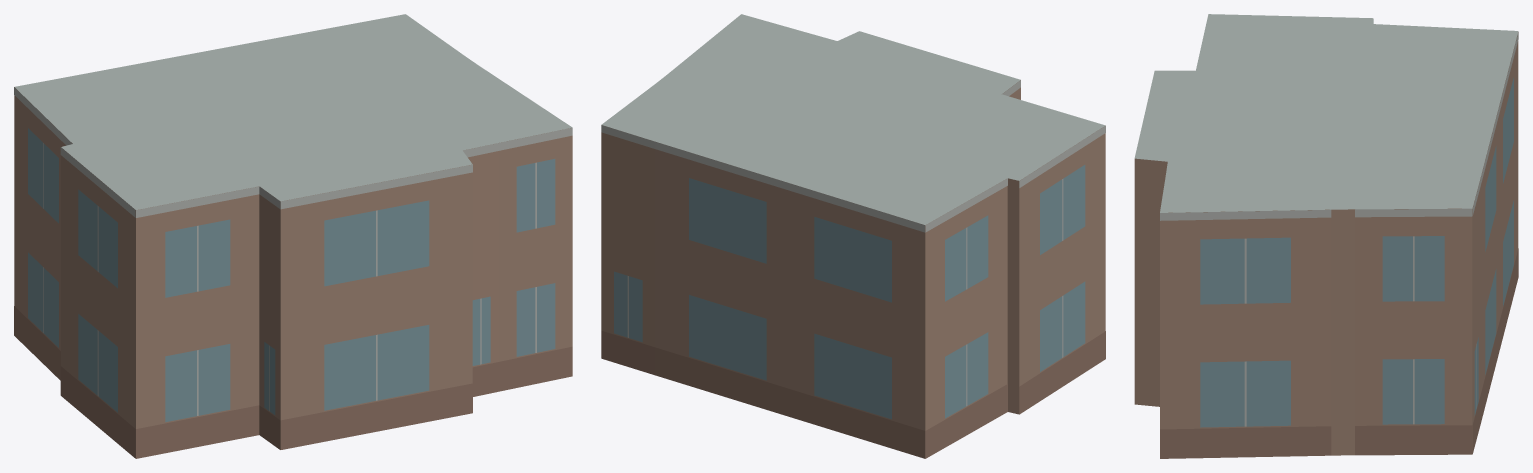
File: survey-upis-32980342.glb
3 renders of one model, left to right at view 1: azimuth 30°, elevation 25°; view 2: azimuth 150°, elevation 25°; view 3: azimuth 270°, elevation 25°, orthographic. The views are drawn at different scales.
Parts seen in each view (by area): view 1: survey-upis-32980342.tmp; view 2: survey-upis-32980342.tmp; view 3: survey-upis-32980342.tmp.
Boxes of the visible parts, box(x1,y1,x2,y2) form: survey-upis-32980342.tmp: box(14, 14, 572, 458); survey-upis-32980342.tmp: box(601, 14, 1105, 458); survey-upis-32980342.tmp: box(1134, 14, 1518, 458).
Bounding box in the file's own units: 13.19 × 7.6 × 10.77.
